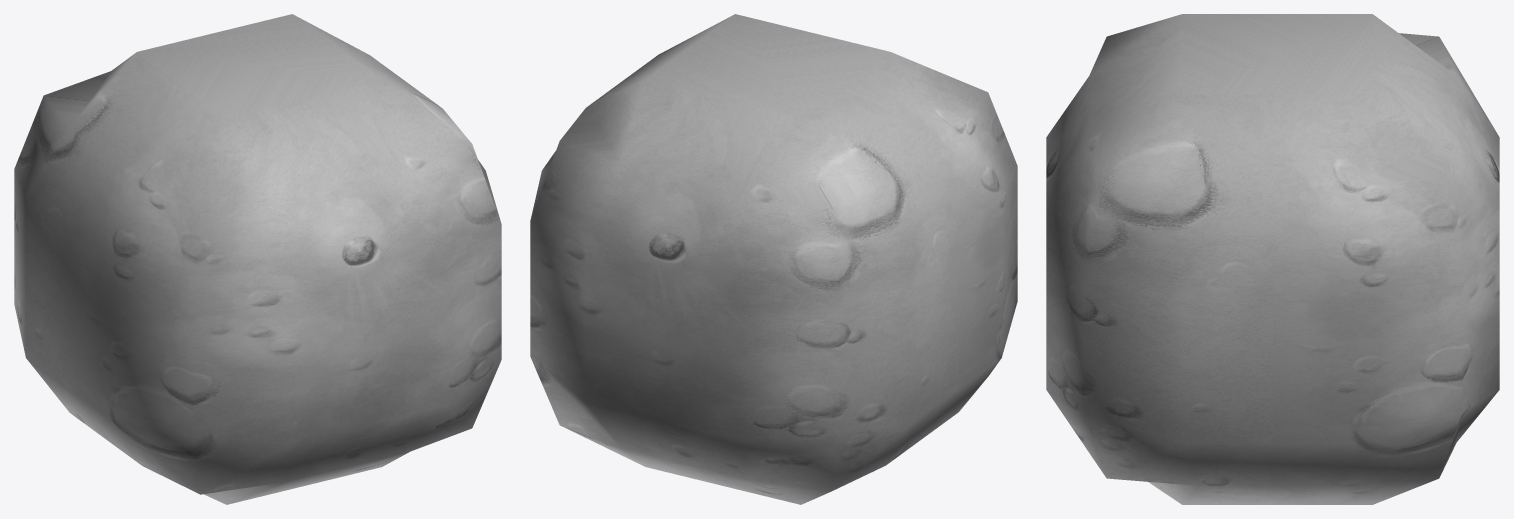
File: rock0102.fbx
The picture shows the model from 3 angles, left to right: view 1: azimuth 30°, elevation 25°; view 2: azimuth 150°, elevation 25°; view 3: azimuth 270°, elevation 25°; orthographic projection. The views are drawn at different scales.
Visible parts, largest first — view 1: pCube1; view 2: pCube1; view 3: pCube1.
Boxes of the visible parts, bbox=[...] form: pCube1: bbox=[14, 14, 501, 504]; pCube1: bbox=[530, 14, 1017, 504]; pCube1: bbox=[1046, 14, 1499, 504].
Size of the model in its own units: 158 by 158 by 158.
Materials: 1 (1 with a texture image).
